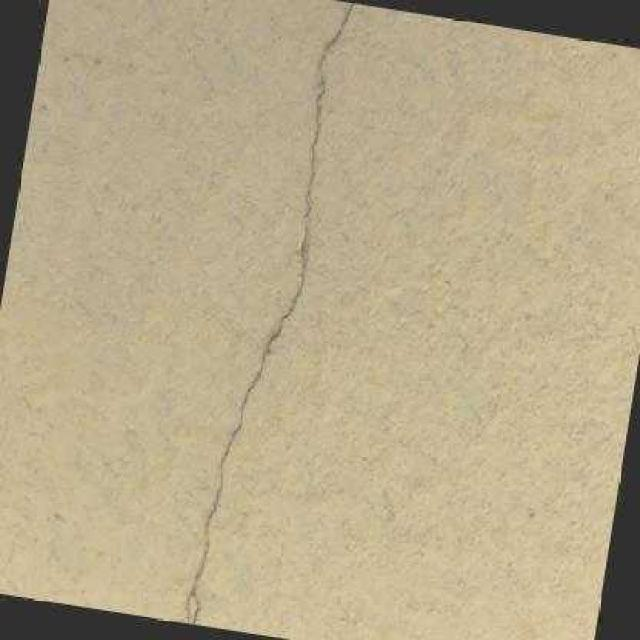D00: (191, 1, 353, 624)
